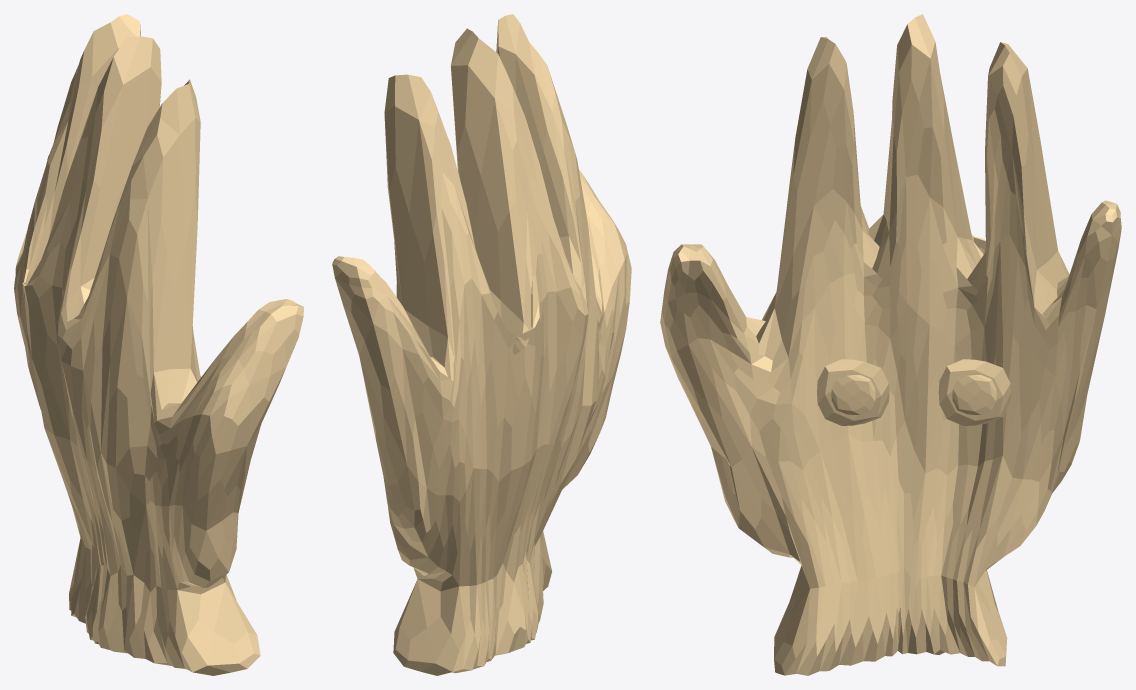
Rendered from LeftHandOpen.obj.
3 views of the same model, side by side, from view 1: azimuth 30°, elevation 25°; view 2: azimuth 150°, elevation 25°; view 3: azimuth 270°, elevation 25° (orthographic). The views are drawn at different scales.
Visible parts, largest first — view 1: Cube; view 2: Cube; view 3: Cube.
Part boxes in pixels (x1=…): Cube: x1=14, y1=14, x2=303, y2=675; Cube: x1=332, y1=14, x2=631, y2=675; Cube: x1=660, y1=14, x2=1121, y2=675.
Bounding box in the file's own units: 1.15 × 4.18 × 2.74.
Materials: 1 (1 with a texture image).
